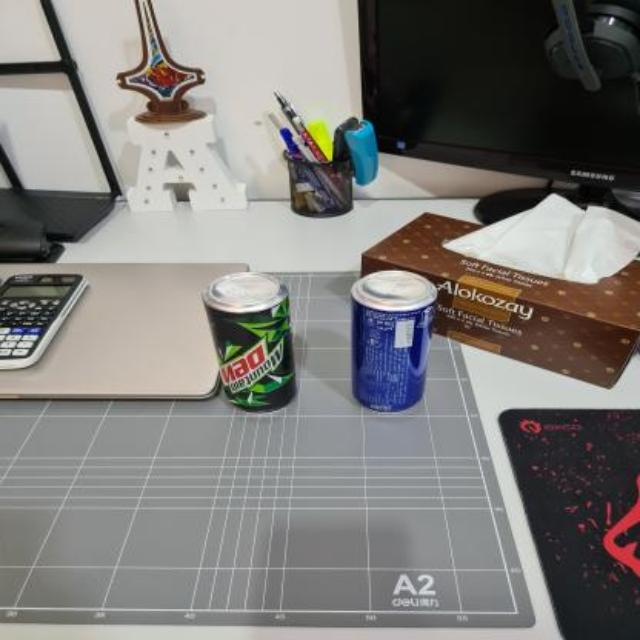cardboard paper: (449, 194, 638, 283)
metal: (205, 272, 294, 411), (352, 271, 435, 411)
